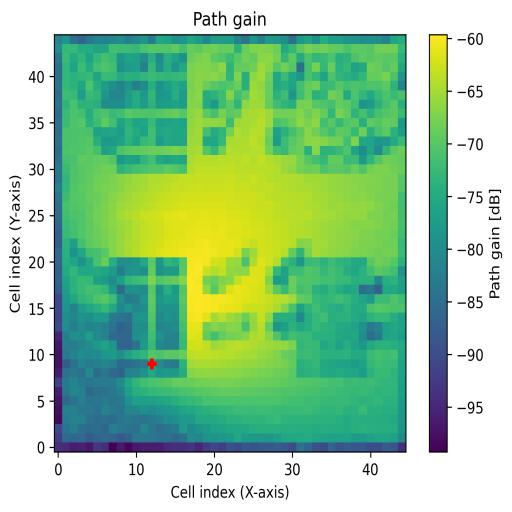Concrete: (297, 53, 367, 173)
Glass: (118, 54, 188, 173)
Metal: (298, 258, 368, 377)
Wood: (110, 258, 187, 377)
